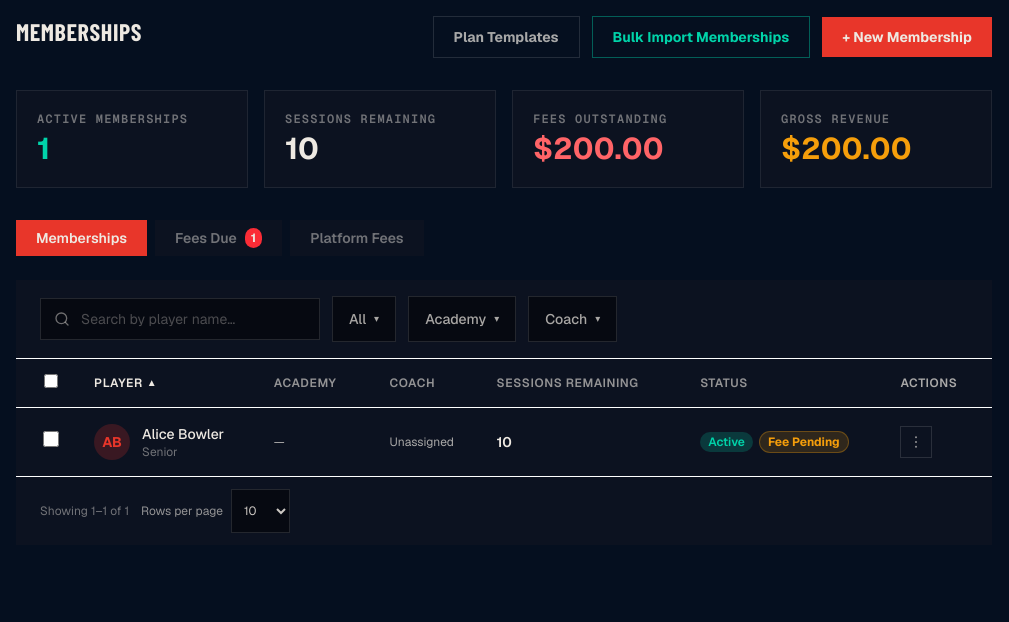
Scenario: SessionPacksClient › selecting a row shows the bulk action bar with the right count, and Clear deselects everything
Expected: the text "Alice Bowler" is shown, [142,424,224,444]
Expected: the text "selected" is not shown
Click the checkbox titled "Select for bulk actions" at (51, 439), box [43,431,59,447]
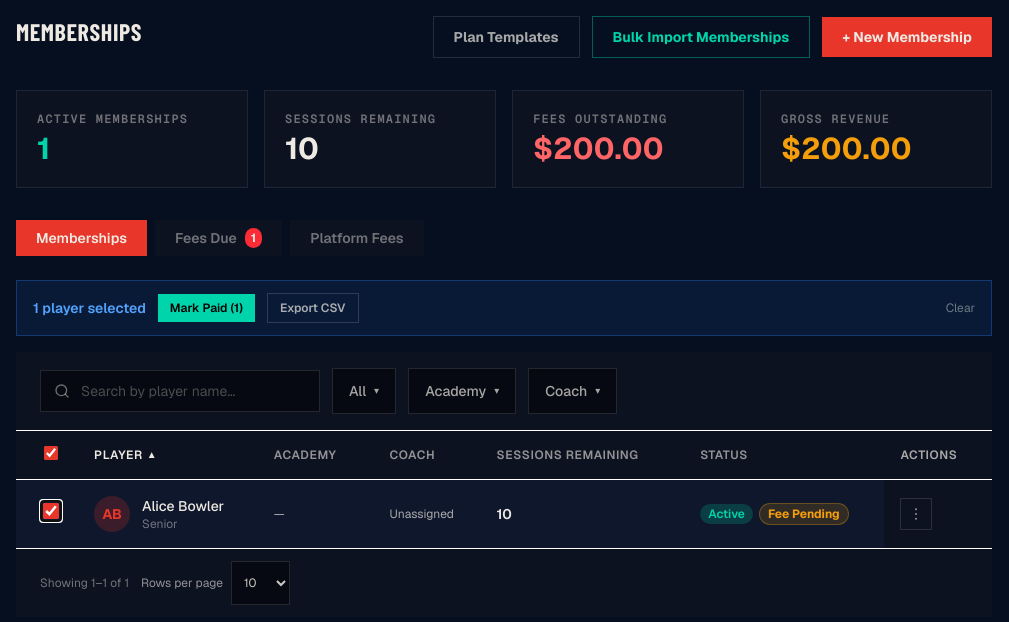
Expected: the text "1 player selected" is shown, [33,298,146,318]
Click the button "Clear" at (960, 308), box [946,300,975,316]
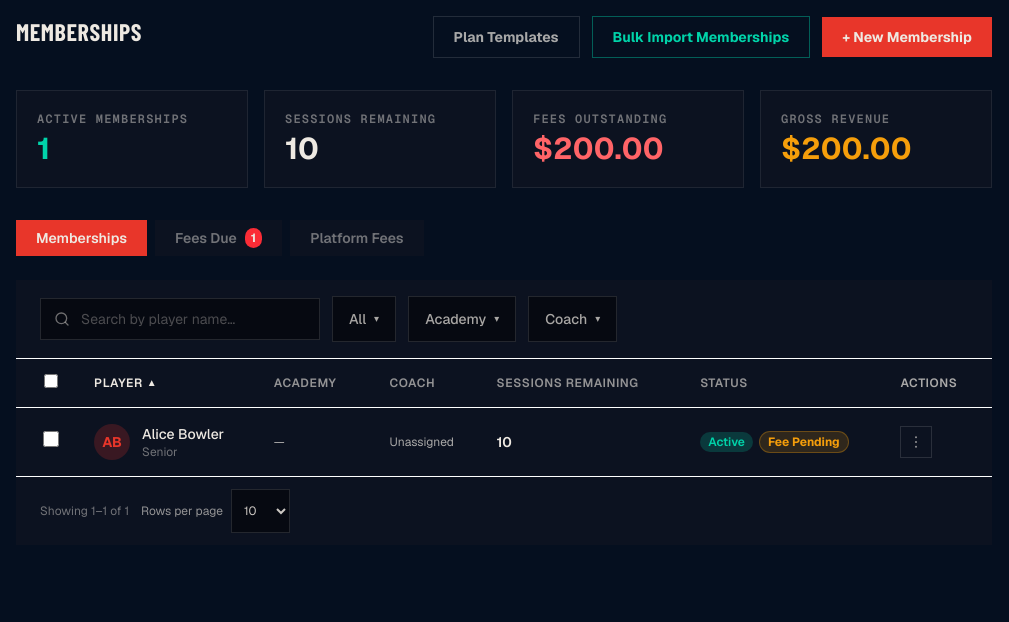
Expected: the text "selected" is gone
